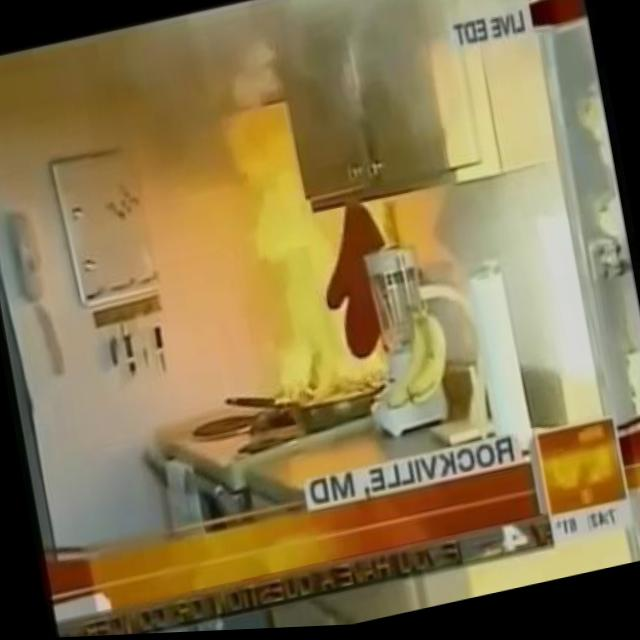fire: (245, 184, 370, 411)
